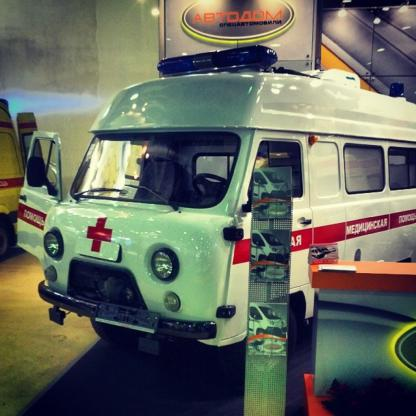bus: (14, 44, 416, 368)
